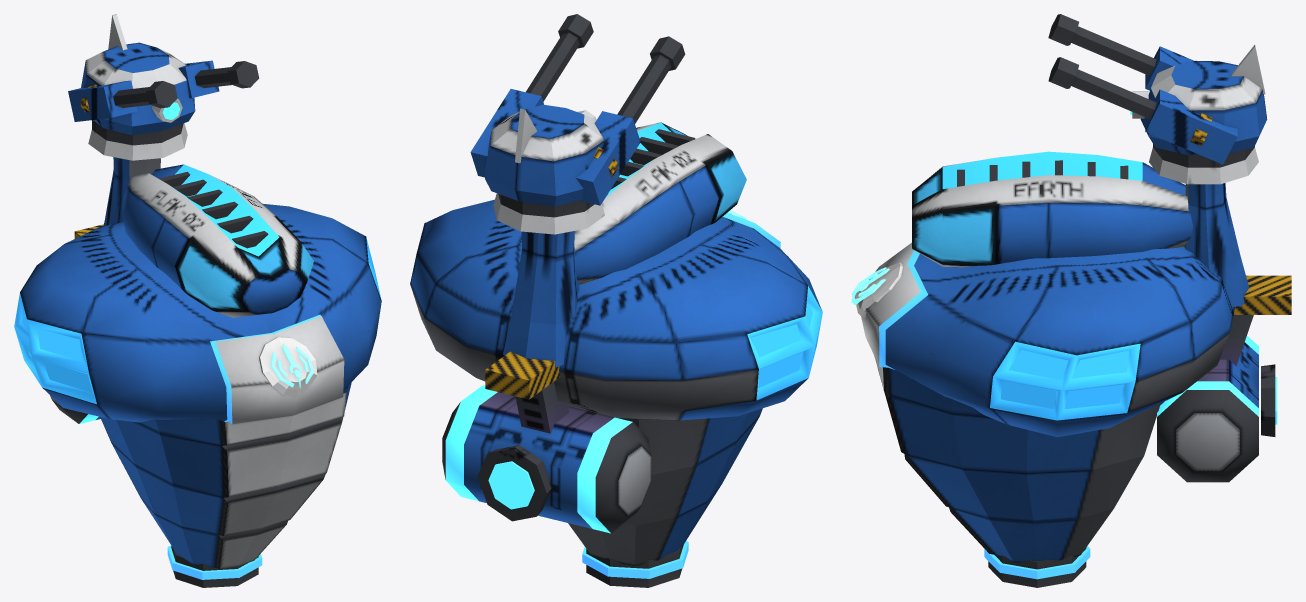
File: FlakTorsoX.glb
3 renders of one model, left to right at view 1: azimuth 30°, elevation 25°; view 2: azimuth 150°, elevation 25°; view 3: azimuth 270°, elevation 25°, orthographic. The views are drawn at different scales.
Visible parts, largest first — view 1: FlakTorsoX_Body, FlakTorsoX_Head, FlakTorsoX_Turret; view 2: FlakTorsoX_Body, FlakTorsoX_Turret, FlakTorsoX_Head; view 3: FlakTorsoX_Body, FlakTorsoX_Head, FlakTorsoX_Turret.
Boxes of the visible parts, left/top/right/bottom form: FlakTorsoX_Body: left=14, top=123, right=381, bottom=587; FlakTorsoX_Head: left=122, top=164, right=313, bottom=317; FlakTorsoX_Turret: left=68, top=14, right=259, bottom=145; FlakTorsoX_Body: left=410, top=193, right=822, bottom=587; FlakTorsoX_Turret: left=470, top=14, right=685, bottom=217; FlakTorsoX_Head: left=574, top=122, right=746, bottom=284; FlakTorsoX_Body: left=851, top=147, right=1291, bottom=587; FlakTorsoX_Head: left=912, top=151, right=1193, bottom=267; FlakTorsoX_Turret: left=1048, top=14, right=1267, bottom=167.
Size of the model in its own units: 10.54 by 14.37 by 10.79.
14 materials, 9 textured.
